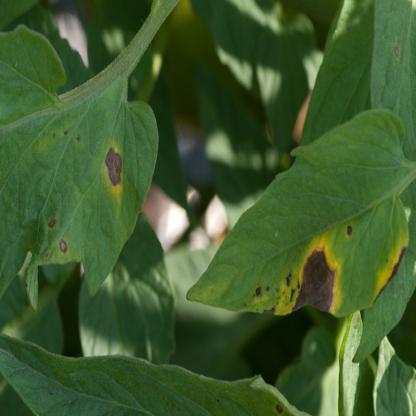potato leaf early blight: (183, 110, 411, 319), (3, 22, 162, 296)
